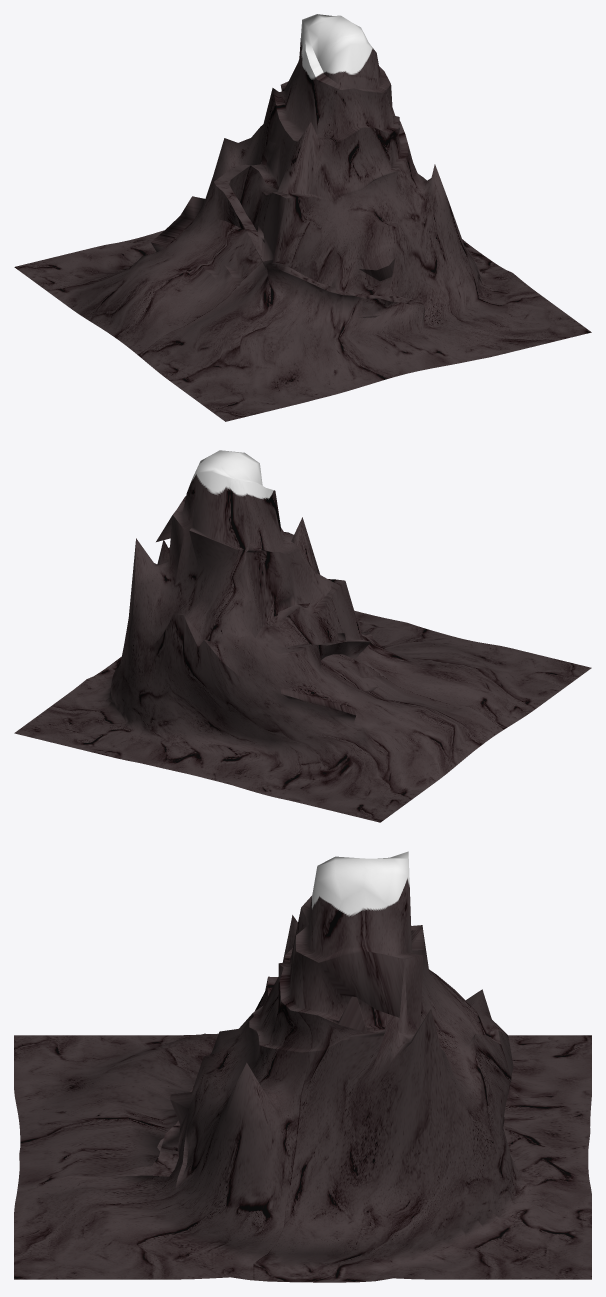
Rendered from HikingMountain.glb.
The picture shows the model from 3 angles, top to bottom: view 1: azimuth 30°, elevation 25°; view 2: azimuth 150°, elevation 25°; view 3: azimuth 270°, elevation 25°; orthographic projection. The views are drawn at different scales.
Parts seen in each view (by area): view 1: Plane; view 2: Plane; view 3: Plane.
Part boxes in pixels (x1=…): Plane: x1=14, y1=14, x2=591, y2=421; Plane: x1=14, y1=450, x2=591, y2=822; Plane: x1=14, y1=851, x2=591, y2=1282.
Size of the model in its own units: 200 by 129 by 200.
1 material, 1 textured.
